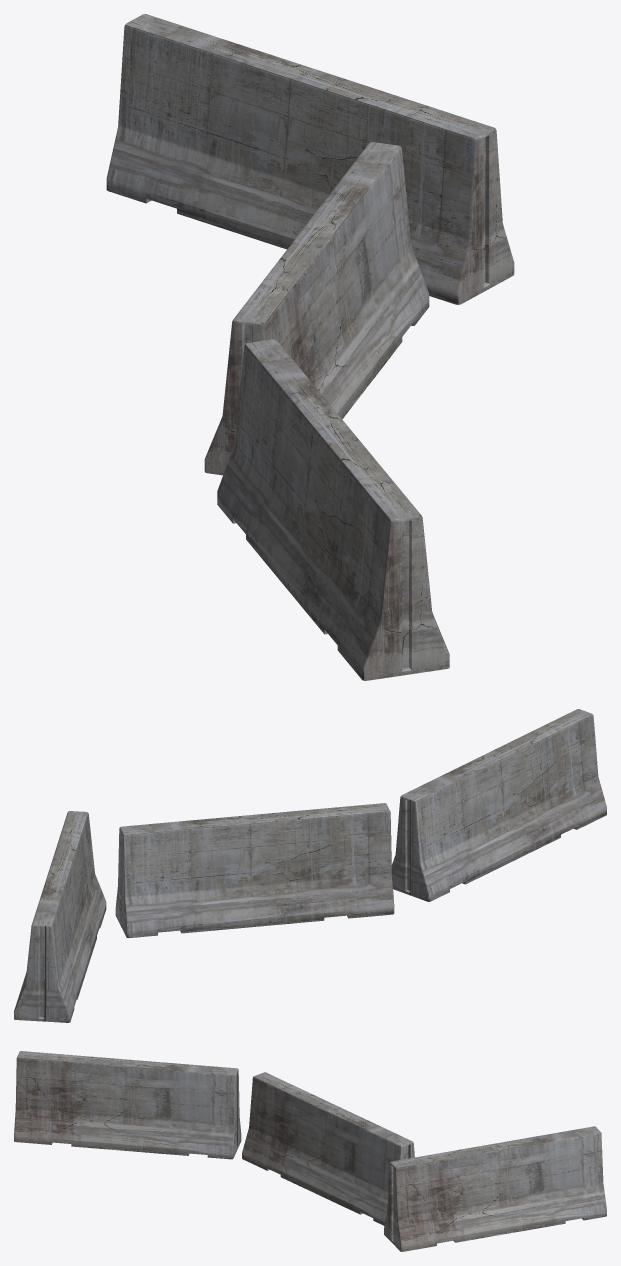
File: City_Barricade008.fbx
3 renders of one model, top to bottom at view 1: azimuth 30°, elevation 25°; view 2: azimuth 150°, elevation 25°; view 3: azimuth 270°, elevation 25°, orthographic. The views are drawn at different scales.
Parts seen in each view (by area): view 1: City_Barricade_008:Barricade_008; view 2: City_Barricade_008:Barricade_008; view 3: City_Barricade_008:Barricade_008.
Boxes of the visible parts, x1,y1,x2,y2 form: City_Barricade_008:Barricade_008: (106,14,514,680); City_Barricade_008:Barricade_008: (14,709,606,1022); City_Barricade_008:Barricade_008: (14,1051,606,1251).
Size of the model in its own units: 408 by 115 by 791.
Materials: 1 (1 with a texture image).
